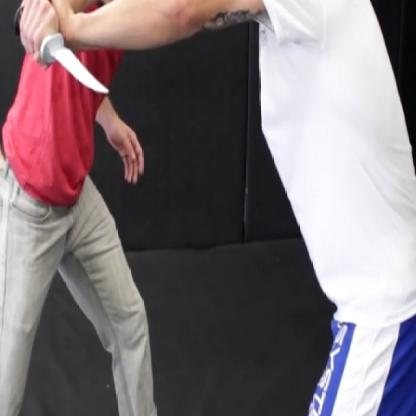knife: (9, 0, 114, 109)
